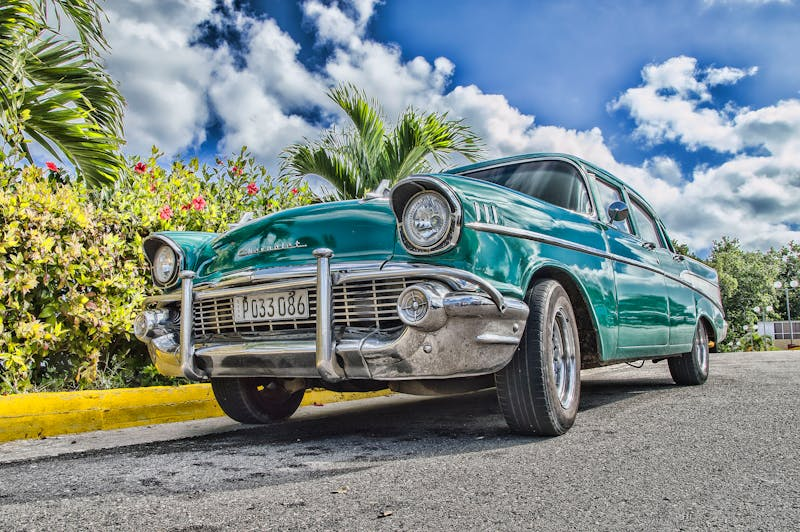other: (142, 147, 726, 437)
